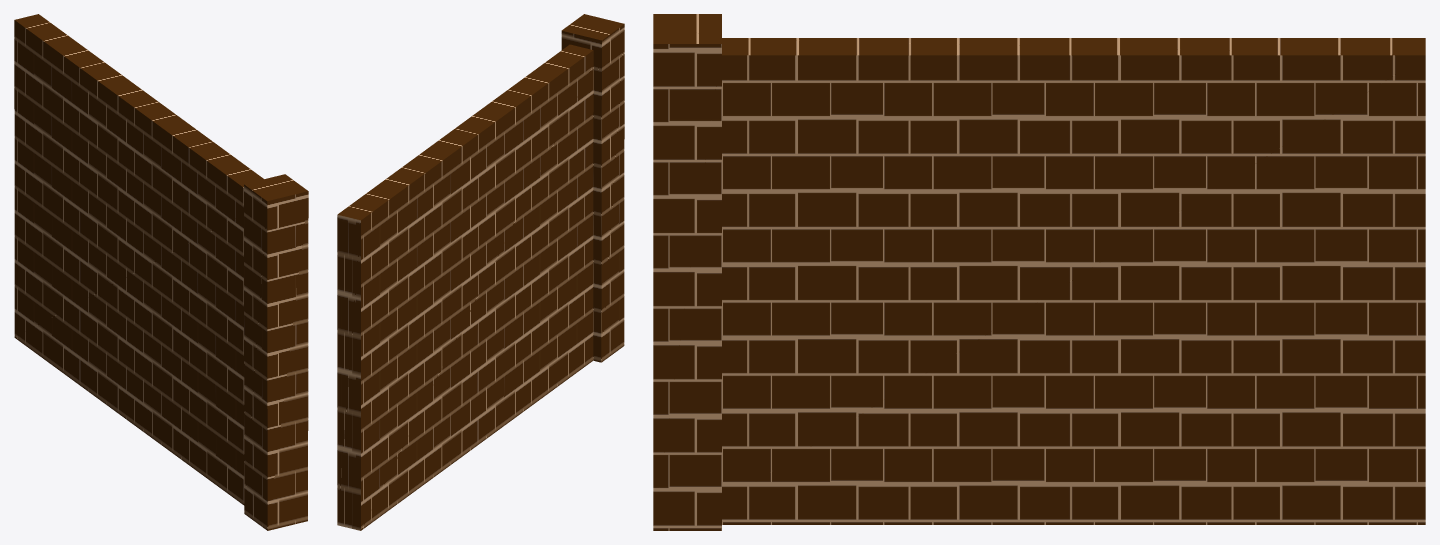
Rendered from wall_straight.fbx.
The picture shows the model from 3 angles, left to right: view 1: azimuth 30°, elevation 25°; view 2: azimuth 150°, elevation 25°; view 3: azimuth 270°, elevation 25°; orthographic projection. The views are drawn at different scales.
Visible parts, largest first — view 1: wall_straight; view 2: wall_straight; view 3: wall_straight.
Boxes of the visible parts, x1,y1,x2,y2 form: wall_straight: [14, 14, 308, 530]; wall_straight: [337, 14, 624, 530]; wall_straight: [653, 14, 1425, 530].
Size of the model in its own units: 38.27 by 292 by 419.
